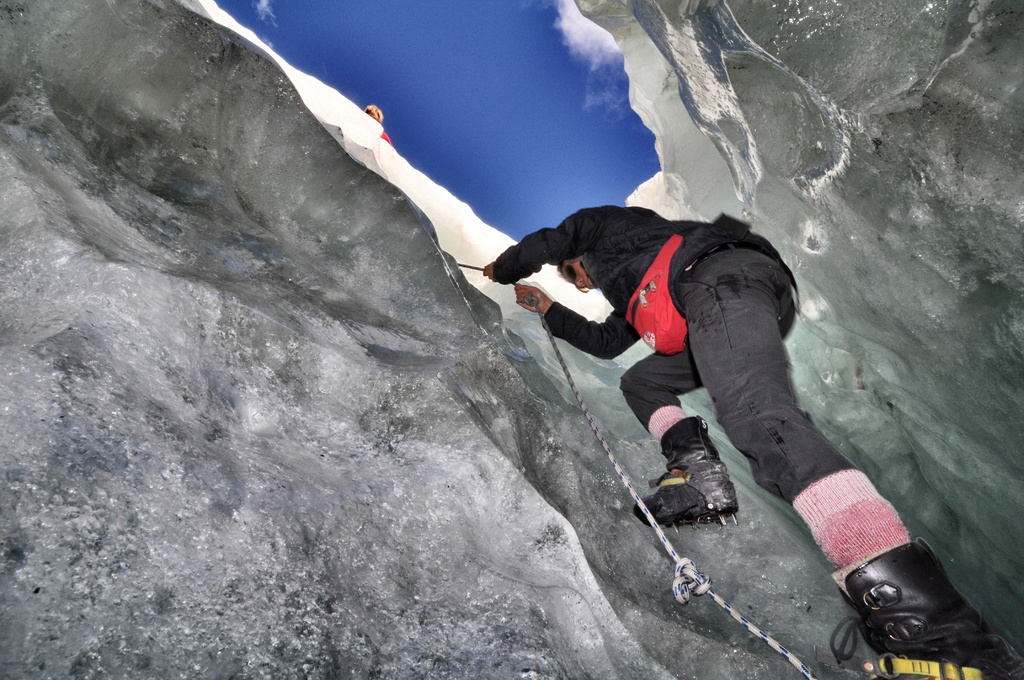Person: (481, 205, 1022, 676)
